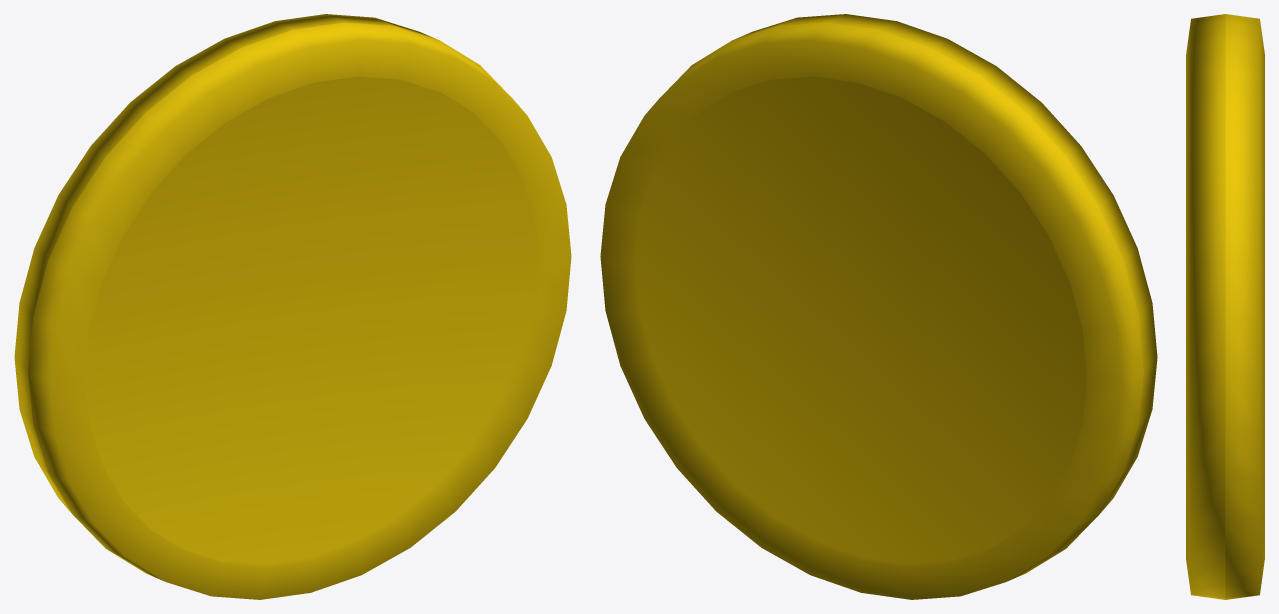
File: coinprova.fbx
3 views of the same model, side by side, from view 1: azimuth 30°, elevation 25°; view 2: azimuth 150°, elevation 25°; view 3: azimuth 270°, elevation 25° (orthographic). The views are drawn at different scales.
Visible parts, largest first — view 1: Cylinder; view 2: Cylinder; view 3: Cylinder.
Boxes of the visible parts, box(x1,y1,x2,y2) form: Cylinder: box(14, 14, 571, 599); Cylinder: box(600, 14, 1157, 599); Cylinder: box(1186, 14, 1264, 599).
Size of the model in its own units: 2.98 by 2.98 by 0.4002.
